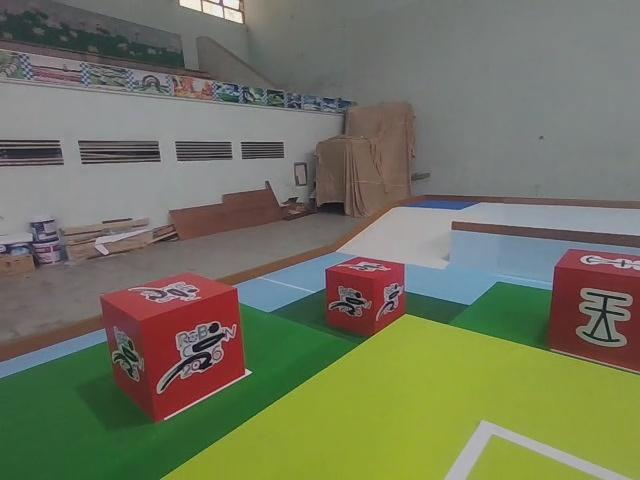R1: (101, 268, 246, 421), (325, 255, 409, 340)
R2 Real: (545, 246, 640, 379)
